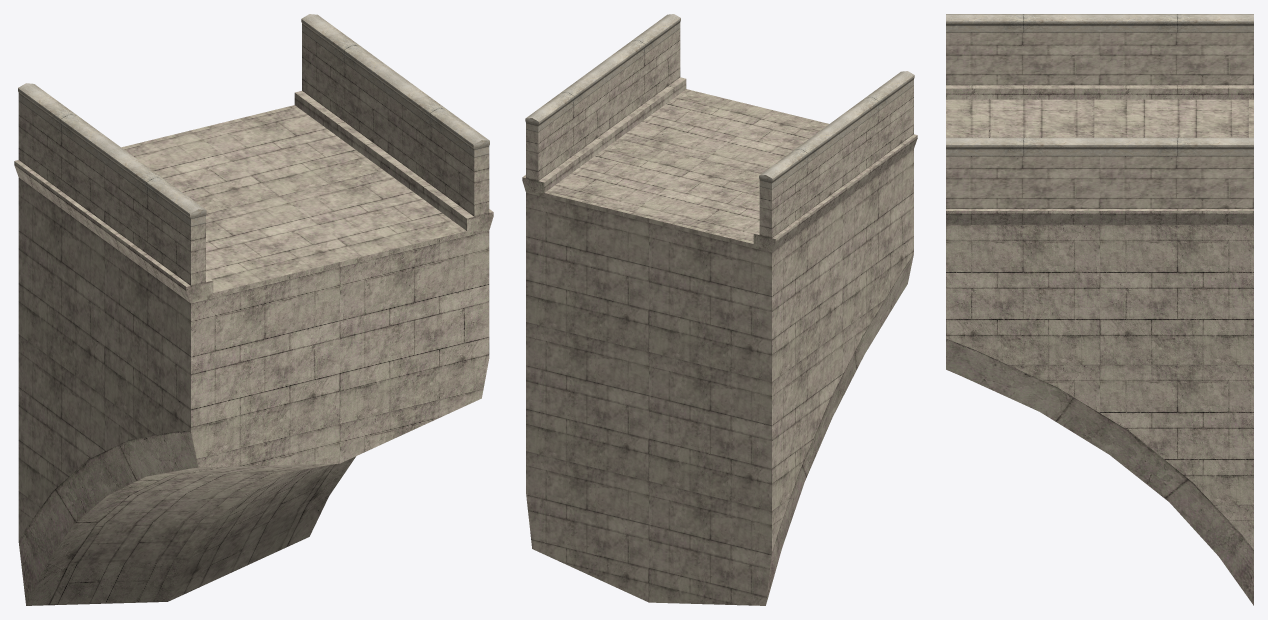
The model's file is AbutmentMarble.dae.
The picture shows the model from 3 angles, left to right: view 1: azimuth 30°, elevation 25°; view 2: azimuth 150°, elevation 25°; view 3: azimuth 270°, elevation 25°; orthographic projection. The views are drawn at different scales.
Parts seen in each view (by area): view 1: AbutmentMarble; view 2: AbutmentMarble; view 3: AbutmentMarble.
Part boxes in pixels (x1,y1,x2,y2): AbutmentMarble: (14, 14, 493, 605); AbutmentMarble: (522, 14, 917, 605); AbutmentMarble: (946, 14, 1253, 605).
Size of the model in its own units: 4.12 by 7.09 by 4.
Materials: 2 (2 with a texture image).
